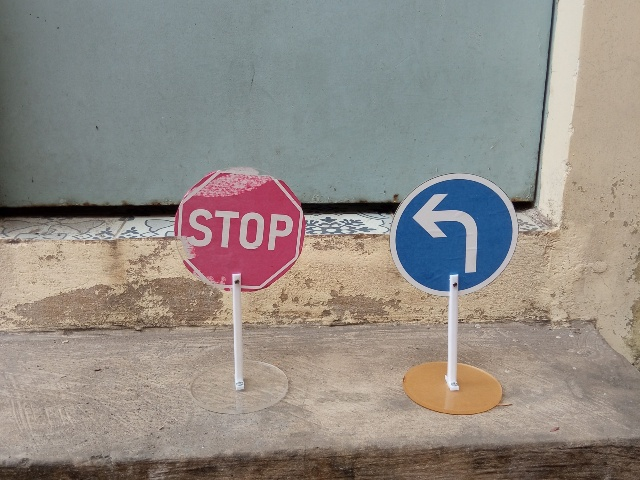Left_Sign: (390, 170, 518, 297)
Stop_Sign: (175, 168, 304, 293)
